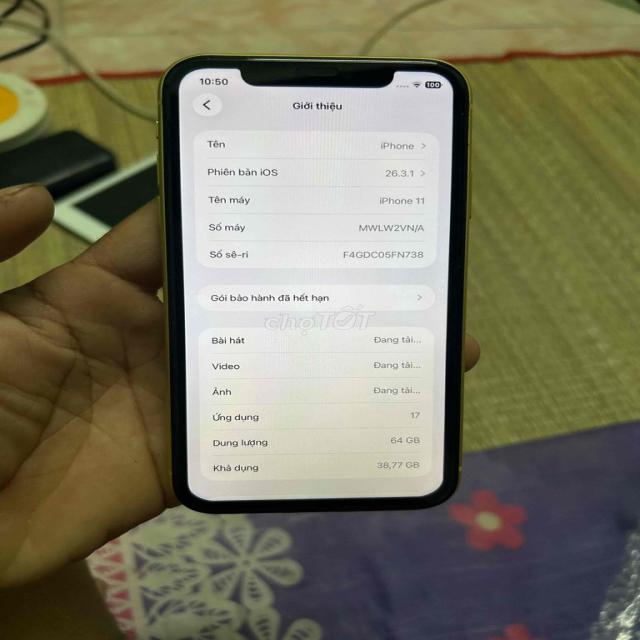gen_11: (140, 51, 476, 522)
